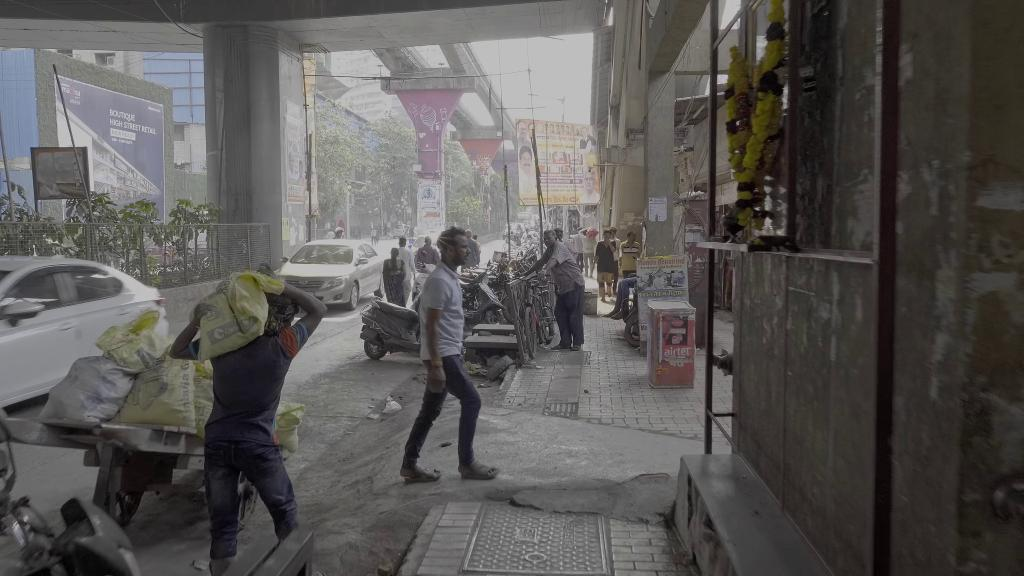garbage: (379, 396, 404, 416)
